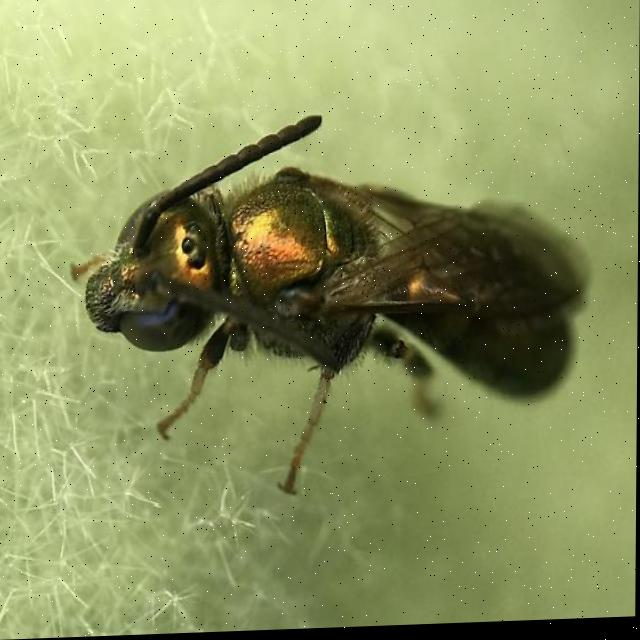Lasioglossum: (88, 92, 602, 509)
